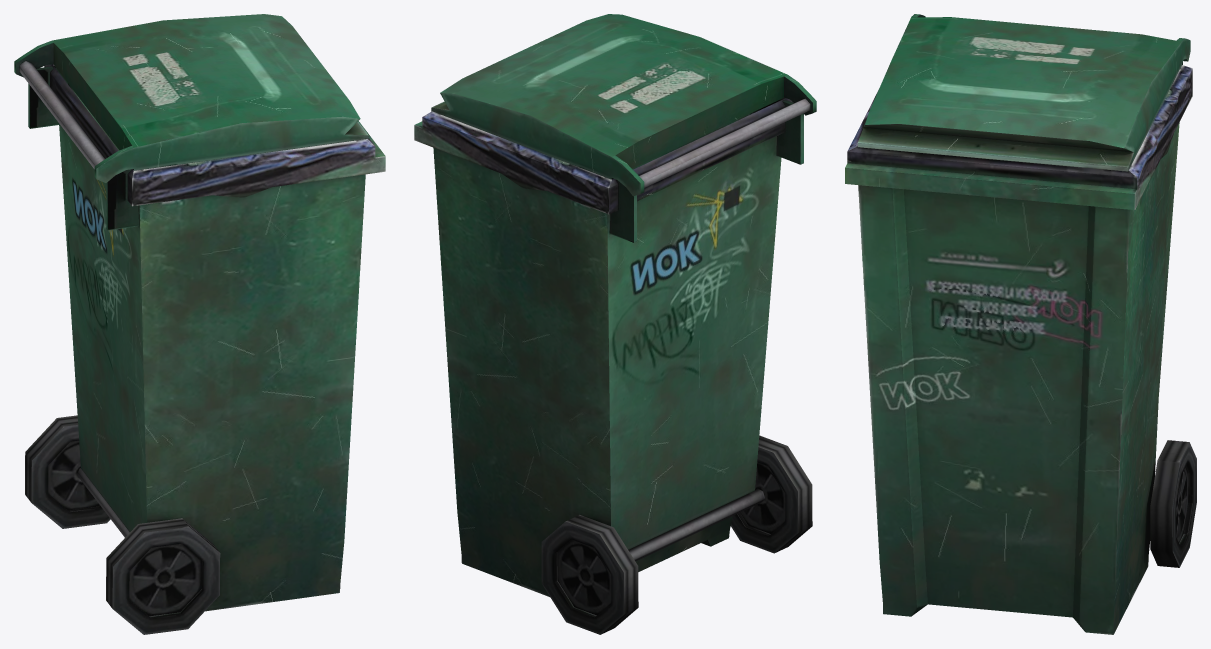
File: poubelle_9.glb
3 views of the same model, side by side, from view 1: azimuth 30°, elevation 25°; view 2: azimuth 150°, elevation 25°; view 3: azimuth 270°, elevation 25° (orthographic). The views are drawn at different scales.
Parts seen in each view (by area): view 1: SM_TrashBin_Material #2_0; view 2: SM_TrashBin_Material #2_0; view 3: SM_TrashBin_Material #2_0.
Part boxes in pixels (<box>): SM_TrashBin_Material #2_0: <box>14,14,385,634</box>; SM_TrashBin_Material #2_0: <box>414,14,816,634</box>; SM_TrashBin_Material #2_0: <box>845,14,1196,634</box>.
Bounding box in the file's own units: 0.7162 × 1.11 × 0.6904.
Materials: 1 (1 with a texture image).
